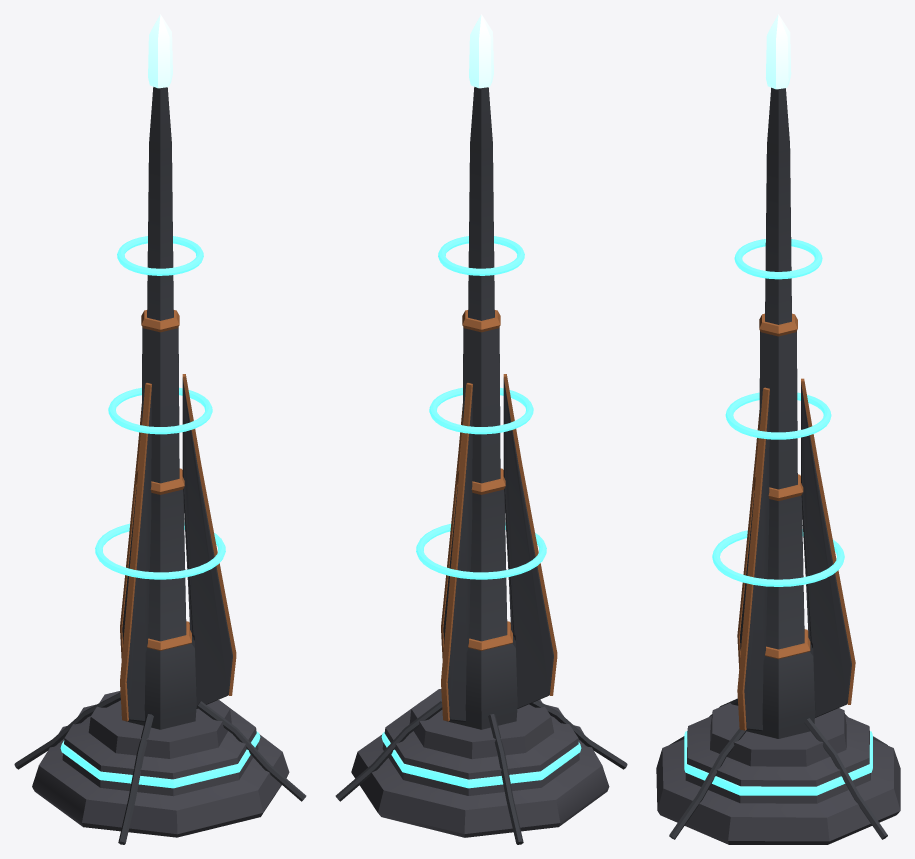
The model's file is deco_energy_pylon_grand.fbx.
3 renders of one model, left to right at view 1: azimuth 30°, elevation 25°; view 2: azimuth 150°, elevation 25°; view 3: azimuth 270°, elevation 25°, orthographic.
Parts seen in each view (by area): view 1: EnergyPylon_Grand_Plinth, EnergyPylon_Grand_Spire, EnergyPylon_Grand_Fins, EnergyPylon_Grand_Cables, EnergyPylon_Grand_PlinthGlow, EnergyPylon_Grand_Ring1, EnergyPylon_Grand_TipCrystal, EnergyPylon_Grand_Bands, EnergyPylon_Grand_Ring2, EnergyPylon_Grand_Ring3; view 2: EnergyPylon_Grand_Plinth, EnergyPylon_Grand_Spire, EnergyPylon_Grand_Fins, EnergyPylon_Grand_Cables, EnergyPylon_Grand_PlinthGlow, EnergyPylon_Grand_Ring1, EnergyPylon_Grand_TipCrystal, EnergyPylon_Grand_Bands, EnergyPylon_Grand_Ring2, EnergyPylon_Grand_Ring3; view 3: EnergyPylon_Grand_Plinth, EnergyPylon_Grand_Spire, EnergyPylon_Grand_Fins, EnergyPylon_Grand_Cables, EnergyPylon_Grand_PlinthGlow, EnergyPylon_Grand_Ring1, EnergyPylon_Grand_TipCrystal, EnergyPylon_Grand_Bands, EnergyPylon_Grand_Ring2, EnergyPylon_Grand_Ring3.
Part boxes in pixels (x1,y1,x2,y2): EnergyPylon_Grand_Plinth: [32, 691, 289, 837]; EnergyPylon_Grand_Spire: [126, 87, 196, 729]; EnergyPylon_Grand_Fins: [120, 374, 236, 721]; EnergyPylon_Grand_Cables: [14, 692, 306, 844]; EnergyPylon_Grand_PlinthGlow: [60, 731, 260, 788]; EnergyPylon_Grand_Ring1: [95, 522, 225, 579]; EnergyPylon_Grand_TipCrystal: [148, 14, 172, 88]; EnergyPylon_Grand_Bands: [136, 310, 191, 650]; EnergyPylon_Grand_Ring2: [108, 387, 212, 434]; EnergyPylon_Grand_Ring3: [117, 236, 203, 275]; EnergyPylon_Grand_Plinth: [351, 689, 609, 837]; EnergyPylon_Grand_Spire: [447, 87, 517, 729]; EnergyPylon_Grand_Fins: [441, 374, 557, 721]; EnergyPylon_Grand_Cables: [335, 700, 627, 844]; EnergyPylon_Grand_PlinthGlow: [381, 732, 581, 788]; EnergyPylon_Grand_Ring1: [416, 522, 546, 579]; EnergyPylon_Grand_TipCrystal: [469, 14, 493, 88]; EnergyPylon_Grand_Bands: [457, 310, 512, 650]; EnergyPylon_Grand_Ring2: [429, 387, 533, 434]; EnergyPylon_Grand_Ring3: [438, 236, 524, 275]; EnergyPylon_Grand_Plinth: [656, 703, 900, 844]; EnergyPylon_Grand_Spire: [747, 87, 815, 738]; EnergyPylon_Grand_Fins: [737, 378, 855, 730]; EnergyPylon_Grand_Cables: [669, 698, 887, 839]; EnergyPylon_Grand_PlinthGlow: [684, 731, 872, 795]; EnergyPylon_Grand_Ring1: [712, 529, 844, 586]; EnergyPylon_Grand_TipCrystal: [766, 14, 791, 89]; EnergyPylon_Grand_Bands: [754, 313, 810, 659]; EnergyPylon_Grand_Ring2: [725, 392, 831, 439]; EnergyPylon_Grand_Ring3: [734, 239, 822, 279].
Size of the model in its own units: 219 by 772 by 219.
